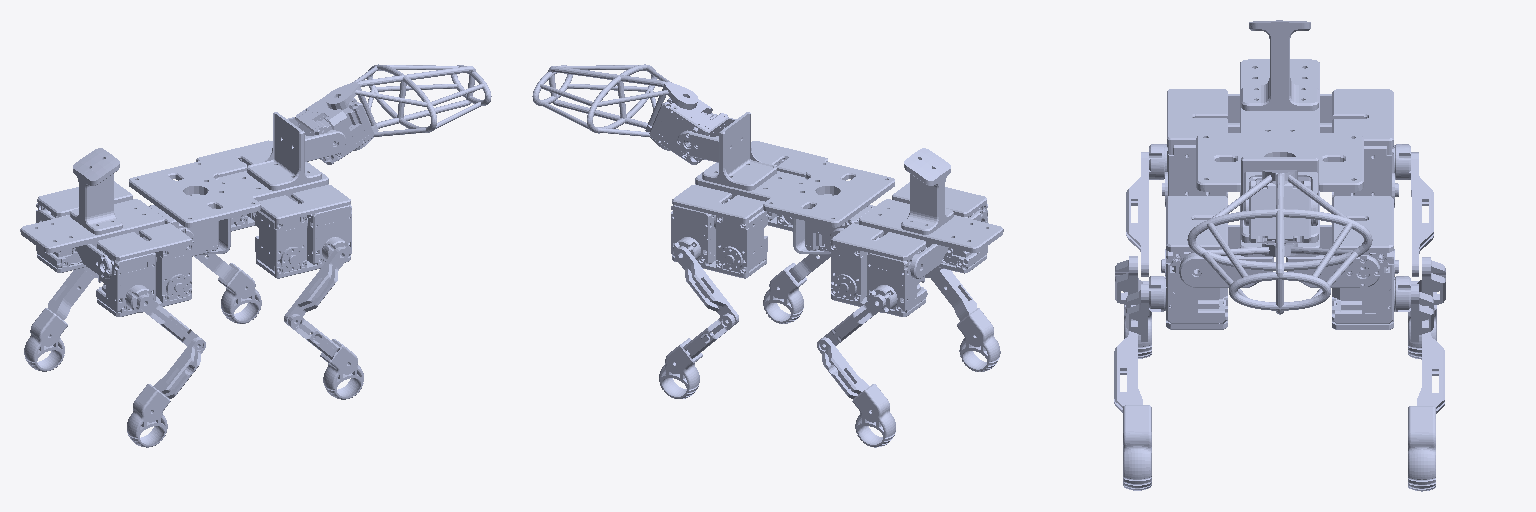
robot.urdf — honeybadger:
<?xml version="1.0" encoding="utf-8"?>
<!-- This URDF was automatically created by SolidWorks to URDF Exporter! Originally created by Stephen Brawner (brawner@gmail.com) 
     Commit Version: 1.6.0-4-g7f85cfe  Build Version: 1.6.7995.38578
     For more information, please see http://wiki.ros.org/sw_urdf_exporter -->
<robot
  name="honeybadger">
  <link
    name="base_link">
    <inertial>
      <origin
        xyz="0.00000000 -0.00093763 0.00093728"
        rpy="0 0 0" />
      <mass
        value="0.09820000" />
      <inertia
        ixx="0.00001958"
        ixy="-0.00000039"
        ixz="-0.00000039"
        iyy="0.00002723"
        iyz="-0.00000068"
        izz="0.00002723" />
    </inertial>
    <visual>
      <origin
        xyz="0 0 0"
        rpy="0 0 0" />
      <geometry>
        <mesh
          filename="../meshes/base_link.STL" />
      </geometry>
      <material
        name="">
        <color
          rgba="0.792156862745098 0.819607843137255 0.933333333333333 1" />
      </material>
    </visual>
    <collision>
      <origin
        xyz="0 0 0"
        rpy="0 0 0" />
      <geometry>
        <mesh
          filename="../meshes/base_link_collision.stl" />
      </geometry>
    </collision>
  </link>
  <link
    name="front_body_link">
    <inertial>
      <origin
        xyz="0.04948445 -0.00012611 0.02335336"
        rpy="0 0 0" />
      <mass
        value="0.10750000" />
      <inertia
        ixx="0.00007495"
        ixy="0.00000282"
        ixz="-0.00001225"
        iyy="0.00022568"
        iyz="0.00000034"
        izz="0.00025301" />
    </inertial>
    <visual>
      <origin
        xyz="0 0 0"
        rpy="0 0 0" />
      <geometry>
        <mesh
          filename="../meshes/front_body_link.STL" />
      </geometry>
      <material
        name="">
        <color
          rgba="0.792156862745098 0.819607843137255 0.933333333333333 1" />
      </material>
    </visual>
    <collision>
      <origin
        xyz="0 0 0"
        rpy="0 0 0" />
      <geometry>
        <mesh
          filename="../meshes/front_body_link_collision.stl" />
      </geometry>
    </collision>
  </link>
  <joint
    name="front_body_joint"
    type="revolute">
    <origin
      xyz="0.0119999999999992 0 0"
      rpy="0 0 0" />
    <parent
      link="base_link" />
    <child
      link="front_body_link" />
    <axis xyz="0 0 1" />
    <limit lower="-3.14" upper="3.14" effort="0" velocity="0"/>
  </joint>
  <link
    name="neck_link">
    <inertial>
      <origin
        xyz="0.00000000 0.01741363 0.00000000"
        rpy="0 0 0" />
      <mass
        value="0.09820000" />
      <inertia
        ixx="0.00000275"
        ixy="-0.0000001"
        ixz="-0.0000001"
        iyy="0.00000522"
        iyz="-0.0000001"
        izz="0.00000274" />
    </inertial>
    <visual>
      <origin
        xyz="0 0 0"
        rpy="0 0 0" />
      <geometry>
        <mesh
          filename="../meshes/neck_link.STL" />
      </geometry>
      <material
        name="">
        <color
          rgba="0.792156862745098 0.819607843137255 0.933333333333333 1" />
      </material>
    </visual>
    <collision>
      <origin
        xyz="0 0 0"
        rpy="0 0 0" />
      <geometry>
        <mesh
          filename="../meshes/neck_link_collision.stl" />
      </geometry>
    </collision>
  </link>
  <joint
    name="neck_joint"
    type="revolute">
    <origin
      xyz="0.117550638789464 0 0.0529525414531326"
      rpy="0 0 0" />
    <parent
      link="front_body_link" />
    <child
      link="neck_link" />
    <axis
      xyz="0 1 0" />
    <limit lower="-3.14" upper="3.14" effort="0" velocity="0"/>
  </joint>
  <link
    name="head_link">
    <inertial>
      <origin
        xyz="0.05077434 -0.00001623 0.00427652"
        rpy="0 0 0" />
      <mass
        value="0.10750000" />
      <inertia
        ixx="0.00007189"
        ixy="0.00000002"
        ixz="0.00000429"
        iyy="0.00018804"
        iyz="-0.0000001"
        izz="0.00021022" />
    </inertial>
    <visual>
      <origin
        xyz="0 0 0"
        rpy="0 0 0" />
      <geometry>
        <mesh
          filename="../meshes/head_link.STL" />
      </geometry>
      <material
        name="">
        <color
          rgba="0.792156862745098 0.819607843137255 0.933333333333333 1" />
      </material>
    </visual>
    <collision>
      <origin
        xyz="0 0 0"
        rpy="0 0 0" />
      <geometry>
        <mesh
          filename="../meshes/head_link_collision.stl" />
      </geometry>
    </collision>
  </link>
  <joint
    name="head_joint"
    type="revolute">
    <origin
      xyz="0.0223077541263685 0 0.00885235030020105"
      rpy="0 0 0" />
    <parent
      link="neck_link" />
    <child
      link="head_link" />
    <axis
      xyz="0 0 -1" />
    <limit lower="-3.14" upper="3.14" effort="0" velocity="0"/>
  </joint>
  <link
    name="FL_hip_link">
    <inertial>
      <origin
        xyz="-0.03531926 0.00064260 -0.01226476"
        rpy="0 0 0" />
      <mass
        value="0.15540000" />
      <inertia
        ixx="0.00005554"
        ixy="-0.00000027"
        ixz="0.00000019"
        iyy="0.00010657"
        iyz="0.00000051"
        izz="0.00008192" />
    </inertial>
    <visual>
      <origin
        xyz="0 0 0"
        rpy="0 0 0" />
      <geometry>
        <mesh
          filename="../meshes/FL_hip_link.STL" />
      </geometry>
      <material
        name="">
        <color
          rgba="0.792156862745098 0.819607843137255 0.933333333333333 1" />
      </material>
    </visual>
    <collision>
      <origin
        xyz="0 0 0"
        rpy="0 0 0" />
      <geometry>
        <mesh
          filename="../meshes/FL_hip_link_collision.stl" />
      </geometry>
    </collision>
  </link>
  <joint
    name="FL_hip_joint"
    type="revolute">
    <origin
      xyz="0.108140874377978 0.0485384998475471 0.00887000000000187"
      rpy="0 0 0" />
    <parent
      link="front_body_link" />
    <child
      link="FL_hip_link" />
    <axis
      xyz="1 0 0" />
    <limit lower="-3.14" upper="3.14" effort="0" velocity="0"/>
  </joint>
  <link
    name="FL_thigh_link">
    <inertial>
      <origin
        xyz="-0.01565646 0.01054961 -0.01564199"
        rpy="0 0 0" />
      <mass
        value="0.10750000" />
      <inertia
        ixx="0.00002829"
        ixy="0.00000468"
        ixz="-0.00002347"
        iyy="0.00005069"
        iyz="0.00000468"
        izz="0.00002829" />
    </inertial>
    <visual>
      <origin
        xyz="0 0 0"
        rpy="0 0 0" />
      <geometry>
        <mesh
          filename="../meshes/FL_thigh_link.STL" />
      </geometry>
      <material
        name="">
        <color
          rgba="0.792156862745098 0.819607843137255 0.933333333333333 1" />
      </material>
    </visual>
    <collision>
      <origin
        xyz="0 0 0"
        rpy="0 0 0" />
      <geometry>
        <mesh
          filename="../meshes/FL_thigh_link_collision.stl" />
      </geometry>
    </collision>
  </link>
  <joint
    name="FL_thigh_joint"
    type="revolute">
    <origin
      xyz="-0.0182404908327697 0.0187704907261972 -0.0240129166102102"
      rpy="0 0 0" />
    <parent
      link="FL_hip_link" />
    <child
      link="FL_thigh_link" />
    <axis
      xyz="0 1 0" />
    <limit lower="-3.14" upper="3.14" effort="0" velocity="0"/>
  </joint>
  <link
    name="FL_calf_link">
    <inertial>
      <origin
        xyz="0.03537921 0.00339474 -0.03947859"
        rpy="0 0 0" />
      <mass
        value="0.10750000" />
      <inertia
        ixx="0.00004069"
        ixy="0.00000272"
        ixz="0.00002480"
        iyy="0.00006275"
        iyz="-0.00000344"
        izz="0.00002734" />
    </inertial>
    <visual>
      <origin
        xyz="0 0 0"
        rpy="0 0 0" />
      <geometry>
        <mesh
          filename="../meshes/FL_calf_link.STL" />
      </geometry>
      <material
        name="">
        <color
          rgba="0.792156862745098 0.819607843137255 0.933333333333333 1" />
      </material>
    </visual>
    <collision>
      <origin
        xyz="0 0 0"
        rpy="0 0 0" />
      <geometry>
        <mesh
          filename="../meshes/FL_calf_link_collision.stl" />
      </geometry>
    </collision>
  </link>
  <joint
    name="FL_calf_joint"
    type="revolute">
    <origin
      xyz="-0.045965408032258 0.0137719011123502 -0.0459485019414488"
      rpy="0 0 0" />
    <parent
      link="FL_thigh_link" />
    <child
      link="FL_calf_link" />
    <axis
      xyz="0 1 0" />
    <limit lower="-3.14" upper="3.14" effort="0" velocity="0"/>
  </joint>
  <link
    name="FR_hip_link">
    <inertial>
      <origin
        xyz="-0.03609823 -0.00064107 -0.01225184"
        rpy="0 0 0" />
      <mass
        value="0.15540000" />
      <inertia
        ixx="0.00005554"
        ixy="0.00000027"
        ixz="0.00000019"
        iyy="0.00010657"
        iyz="-0.00000051"
        izz="0.00008192" />
    </inertial>
    <visual>
      <origin
        xyz="0 0 0"
        rpy="0 0 0" />
      <geometry>
        <mesh
          filename="../meshes/FR_hip_link.STL" />
      </geometry>
      <material
        name="">
        <color
          rgba="0.792156862745098 0.819607843137255 0.933333333333333 1" />
      </material>
    </visual>
    <collision>
      <origin
        xyz="0 0 0"
        rpy="0 0 0" />
      <geometry>
        <mesh
          filename="../meshes/FR_hip_link_collision.stl" />
      </geometry>
    </collision>
  </link>
  <joint
    name="FR_hip_joint"
    type="revolute">
    <origin
      xyz="0.108140874377978 -0.0485795001524533 0.00889824075018543"
      rpy="0 0 0" />
    <parent
      link="front_body_link" />
    <child
      link="FR_hip_link" />
    <axis
      xyz="1 0 0" />
    <limit lower="-3.14" upper="3.14" effort="0" velocity="0"/>
  </joint>
  <link
    name="FR_thigh_link">
    <inertial>
      <origin
        xyz="-0.01565470 -0.01100453 -0.01565433"
        rpy="0 0 0" />
      <mass
        value="0.10750000" />
      <inertia
        ixx="0.00002829"
        ixy="-0.00000468"
        ixz="-0.00002347"
        iyy="0.00005070"
        iyz="-0.00000469"
        izz="0.00002829" />
    </inertial>
    <visual>
      <origin
        xyz="0 0 0"
        rpy="0 0 0" />
      <geometry>
        <mesh
          filename="../meshes/FR_thigh_link.STL" />
      </geometry>
      <material
        name="">
        <color
          rgba="0.792156862745098 0.819607843137255 0.933333333333333 1" />
      </material>
    </visual>
    <collision>
      <origin
        xyz="0 0 0"
        rpy="0 0 0" />
      <geometry>
        <mesh
          filename="../meshes/FR_thigh_link_collision.stl" />
      </geometry>
    </collision>
  </link>
  <joint
    name="FR_thigh_joint"
    type="revolute">
    <origin
      xyz="-0.0190195119280461 -0.0185418828070309 -0.0239999992222784"
      rpy="0 0 0" />
    <parent
      link="FR_hip_link" />
    <child
      link="FR_thigh_link" />
    <axis
      xyz="0 1 0" />
    <limit lower="-3.14" upper="3.14" effort="0" velocity="0"/>
  </joint>
  <link
    name="FR_calf_link">
    <inertial>
      <origin
        xyz="0.03537930 -0.00362170 -0.03947869"
        rpy="0 0 0" />
      <mass
        value="0.10750000" />
      <inertia
        ixx="0.00004069"
        ixy="-0.00000272"
        ixz="0.00002480"
        iyy="0.00006275"
        iyz="0.00000345"
        izz="0.00002734" />
    </inertial>
    <visual>
      <origin
        xyz="0 0 0"
        rpy="0 0 0" />
      <geometry>
        <mesh
          filename="../meshes/FR_calf_link.STL" />
      </geometry>
      <material
        name="">
        <color
          rgba="0.792156862745098 0.819607843137255 0.933333333333333 1" />
      </material>
    </visual>
    <collision>
      <origin
        xyz="0 0 0"
        rpy="0 0 0" />
      <geometry>
        <mesh
          filename="../meshes/FR_calf_link_collision.stl" />
      </geometry>
    </collision>
  </link>
  <joint
    name="FR_calf_joint"
    type="revolute">
    <origin
      xyz="-0.045963783477352 -0.0140000099543861 -0.0459614245826425"
      rpy="0 0 0" />
    <parent
      link="FR_thigh_link" />
    <child
      link="FR_calf_link" />
    <axis
      xyz="0 1 0" />
    <limit lower="-3.14" upper="3.14" effort="0" velocity="0"/>
  </joint>
  <link
    name="rear_body_link">
    <inertial>
      <origin
        xyz="-0.06280371 0.00027519 0.02518362"
        rpy="0 0 0" />
      <mass
        value="0.10750000" />
      <inertia
        ixx="0.00008242"
        ixy="0.00000107"
        ixz="0.00001276"
        iyy="0.00012126"
        iyz="0.00000081"
        izz="0.00011990" />
    </inertial>
    <visual>
      <origin
        xyz="0 0 0"
        rpy="0 0 0" />
      <geometry>
        <mesh
          filename="../meshes/rear_body_link.STL" />
      </geometry>
      <material
        name="">
        <color
          rgba="0.792156862745098 0.819607843137255 0.933333333333333 1" />
      </material>
    </visual>
    <collision>
      <origin
        xyz="0 0 0"
        rpy="0 0 0" />
      <geometry>
        <mesh
          filename="../meshes/rear_body_link_collision.stl" />
      </geometry>
    </collision>
  </link>
  <joint
    name="rear_body_joint"
    type="revolute">
    <origin
      xyz="-0.0120000000000005 0 0"
      rpy="0 0 0" />
    <parent
      link="base_link" />
    <child
      link="rear_body_link" />
    <axis
      xyz="0 1 0" />
    <limit lower="-3.14" upper="3.14" effort="0" velocity="0"/>
  </joint>
  <link
    name="RL_hip_link">
    <inertial>
      <origin
        xyz="0.03609872 0.00064208 -0.01225185"
        rpy="0 0 0" />
      <mass
        value="0.15540000" />
      <inertia
        ixx="0.00005554"
        ixy="-0.00000027"
        ixz="-0.00000019"
        iyy="0.00010657"
        iyz="0.00000051"
        izz="0.00008192" />
    </inertial>
    <visual>
      <origin
        xyz="0 0 0"
        rpy="0 0 0" />
      <geometry>
        <mesh
          filename="../meshes/RL_hip_link.STL" />
      </geometry>
      <material
        name="">
        <color
          rgba="0.792156862745098 0.819607843137255 0.933333333333333 1" />
      </material>
    </visual>
    <collision>
      <origin
        xyz="0 0 0"
        rpy="0 0 0" />
      <geometry>
        <mesh
          filename="../meshes/RL_hip_link_collision.stl" />
      </geometry>
    </collision>
  </link>
  <joint
    name="RL_hip_joint"
    type="revolute">
    <origin
      xyz="-0.0872396172097073 0.0485389903815095 0.00885708338982556"
      rpy="0 0 0" />
    <parent
      link="rear_body_link" />
    <child
      link="RL_hip_link" />
    <axis
      xyz="1 0 0" />
    <limit lower="-3.14" upper="3.14" effort="0" velocity="0"/>
  </joint>
  <link
    name="RL_thigh_link">
    <inertial>
      <origin
        xyz="0.01565470 0.01077743 -0.01565433"
        rpy="0 0 0" />
      <mass
        value="0.10750000" />
      <inertia
        ixx="0.00002829"
        ixy="-0.00000468"
        ixz="0.00002347"
        iyy="0.00005070"
        iyz="0.00000468"
        izz="0.00002829" />
    </inertial>
    <visual>
      <origin
        xyz="0 0 0"
        rpy="0 0 0" />
      <geometry>
        <mesh
          filename="../meshes/RL_thigh_link.STL" />
      </geometry>
      <material
        name="">
        <color
          rgba="0.792156862745098 0.819607843137255 0.933333333333333 1" />
      </material>
    </visual>
    <collision>
      <origin
        xyz="0 0 0"
        rpy="0 0 0" />
      <geometry>
        <mesh
          filename="../meshes/RL_thigh_link_collision.stl" />
      </geometry>
    </collision>
  </link>
  <joint
    name="RL_thigh_joint"
    type="revolute">
    <origin
      xyz="0.019020000754915 0.0187700001922348 -0.0240000000000344"
      rpy="0 0 0" />
    <parent
      link="RL_hip_link" />
    <child
      link="RL_thigh_link" />
    <axis
      xyz="0 1 0" />
    <limit lower="-3.14" upper="3.14" effort="0" velocity="0"/>
  </joint>
  <link
    name="RL_calf_link">
    <inertial>
      <origin
        xyz="-0.03537925 0.00362270 -0.03947870"
        rpy="0 0 0" />
      <mass
        value="0.10750000" />
      <inertia
        ixx="0.00004069"
        ixy="-0.00000272"
        ixz="-0.00002480"
        iyy="0.00006275"
        iyz="-0.00000345"
        izz="0.00002734" />
    </inertial>
    <visual>
      <origin
        xyz="0 0 0"
        rpy="0 0 0" />
      <geometry>
        <mesh
          filename="../meshes/RL_calf_link.STL" />
      </geometry>
      <material
        name="">
        <color
          rgba="0.792156862745098 0.819607843137255 0.933333333333333 1" />
      </material>
    </visual>
    <collision>
      <origin
        xyz="0 0 0"
        rpy="0 0 0" />
      <geometry>
        <mesh
          filename="../meshes/RL_calf_link_collision.stl" />
      </geometry>
    </collision>
  </link>
  <joint
    name="RL_calf_joint"
    type="revolute">
    <origin
      xyz="0.0459637368277912 0.0137719011123502 -0.0459614203530425"
      rpy="0 0 0" />
    <parent
      link="RL_thigh_link" />
    <child
      link="RL_calf_link" />
    <axis
      xyz="0 1 0" />
    <limit lower="-3.14" upper="3.14" effort="0" velocity="0"/>
  </joint>
  <link
    name="RR_hip_link">
    <inertial>
      <origin
        xyz="0.03532137 -0.00041448 -0.01225185"
        rpy="0 0 0" />
      <mass
        value="0.15540000" />
      <inertia
        ixx="0.00005554"
        ixy="-0.00000027"
        ixz="-0.00000019"
        iyy="0.00010657"
        iyz="-0.00000051"
        izz="0.00008192" />
    </inertial>
    <visual>
      <origin
        xyz="0 0 0"
        rpy="0 0 0" />
      <geometry>
        <mesh
          filename="../meshes/RR_hip_link.STL" />
      </geometry>
      <material
        name="">
        <color
          rgba="0.792156862745098 0.819607843137255 0.933333333333333 1" />
      </material>
    </visual>
    <collision>
      <origin
        xyz="0 0 0"
        rpy="0 0 0" />
      <geometry>
        <mesh
          filename="../meshes/RR_hip_link_collision.stl" />
      </geometry>
    </collision>
  </link>
  <joint
    name="RR_hip_joint"
    type="revolute">
    <origin
      xyz="-0.0872396172097073 -0.0485790112615451 0.00888532336230367"
      rpy="0 0 0" />
    <parent
      link="rear_body_link" />
    <child
      link="RR_hip_link" />
    <axis
      xyz="1 0 0" />
    <limit lower="-3.14" upper="3.14" effort="0" velocity="0"/>
  </joint>
  <link
    name="RR_thigh_link">
    <inertial>
      <origin
        xyz="0.01565485 -0.01077772 -0.01565493"
        rpy="0 0 0" />
      <mass
        value="0.10750000" />
      <inertia
        ixx="0.00002829"
        ixy="0.00000468"
        ixz="0.00002347"
        iyy="0.00005069"
        iyz="-0.00000468"
        izz="0.00002829" />
    </inertial>
    <visual>
      <origin
        xyz="0 0 0"
        rpy="0 0 0" />
      <geometry>
        <mesh
          filename="../meshes/RR_thigh_link.STL" />
      </geometry>
      <material
        name="">
        <color
          rgba="0.792156862745098 0.819607843137255 0.933333333333333 1" />
      </material>
    </visual>
    <collision>
      <origin
        xyz="0 0 0"
        rpy="0 0 0" />
      <geometry>
        <mesh
          filename="../meshes/RR_thigh_link_collision.stl" />
      </geometry>
    </collision>
  </link>
  <joint
    name="RR_thigh_joint"
    type="revolute">
    <origin
      xyz="0.0182426029587098 -0.0185423716979372 -0.0239999975070999"
      rpy="0 0 0" />
    <parent
      link="RR_hip_link" />
    <child
      link="RR_thigh_link" />
    <axis
      xyz="0 1 0" />
    <limit lower="-3.14" upper="3.14" effort="0" velocity="0"/>
  </joint>
  <link
    name="RR_calf_link">
    <inertial>
      <origin
        xyz="-0.03537921 -0.00339474 -0.03947859"
        rpy="0 0 0" />
      <mass
        value="0.10750000" />
      <inertia
        ixx="0.00004069"
        ixy="0.00000272"
        ixz="-0.00002480"
        iyy="0.00006275"
        iyz="0.00000344"
        izz="0.00002734" />
    </inertial>
    <visual>
      <origin
        xyz="0 0 0"
        rpy="0 0 0" />
      <geometry>
        <mesh
          filename="../meshes/RR_calf_link.STL" />
      </geometry>
      <material
        name="">
        <color
          rgba="0.792156862745098 0.819607843137255 0.933333333333333 1" />
      </material>
    </visual>
    <collision>
      <origin
        xyz="0 0 0"
        rpy="0 0 0" />
      <geometry>
        <mesh
          filename="../meshes/RR_calf_link_collision.stl" />
      </geometry>
    </collision>
  </link>
  <joint
    name="RR_calf_joint"
    type="revolute">
    <origin
      xyz="0.0459637834773524 -0.0140000099543879 -0.0459614245826424"
      rpy="0 0 0" />
    <parent
      link="RR_thigh_link" />
    <child
      link="RR_calf_link" />
    <axis
      xyz="0 1 0" />
    <limit lower="-3.14" upper="3.14" effort="0" velocity="0"/>
  </joint>
</robot>

--- Render facts (derived) ---
3 views of the same robot in one strip: view 1: azimuth 30°, elevation 25°; view 2: azimuth 150°, elevation 25°; view 3: azimuth 270°, elevation 25° (orthographic).
Model honeybadger with 17 links and 16 joints (16 revolute), rooted at base_link, posed all joints at 0.
Links seen in each view (by area): view 1: front_body_link, rear_body_link, FR_hip_link, RR_hip_link, head_link, RR_calf_link, RL_calf_link, neck_link, FR_calf_link, FL_calf_link, RL_hip_link, FR_thigh_link (+3 smaller); view 2: front_body_link, rear_body_link, FL_hip_link, RL_hip_link, head_link, RL_calf_link, RR_calf_link, neck_link, FL_calf_link, FR_calf_link, RR_hip_link, FL_thigh_link (+3 smaller); view 3: front_body_link, head_link, rear_body_link, FL_hip_link, FR_hip_link, RL_hip_link, RR_hip_link, FR_calf_link, FL_calf_link, neck_link, RR_thigh_link, RL_thigh_link (+4 smaller).
Link boxes in pixels (x1=…): front_body_link: x1=129, y1=112, x2=351, y2=254; rear_body_link: x1=20, y1=148, x2=193, y2=278; FR_hip_link: x1=255, y1=185, x2=351, y2=278; RR_hip_link: x1=96, y1=223, x2=191, y2=316; head_link: x1=325, y1=64, x2=491, y2=150; RR_calf_link: x1=127, y1=337, x2=205, y2=447; RL_calf_link: x1=24, y1=268, x2=93, y2=371; neck_link: x1=295, y1=95, x2=374, y2=164; FR_calf_link: x1=288, y1=314, x2=363, y2=399; FL_calf_link: x1=194, y1=254, x2=261, y2=323; RL_hip_link: x1=36, y1=181, x2=132, y2=272; FR_thigh_link: x1=284, y1=237, x2=349, y2=325; front_body_link: x1=677, y1=112, x2=894, y2=254; rear_body_link: x1=830, y1=148, x2=1003, y2=278; FL_hip_link: x1=671, y1=185, x2=767, y2=278; RL_hip_link: x1=831, y1=223, x2=927, y2=316; head_link: x1=532, y1=64, x2=698, y2=150; RL_calf_link: x1=817, y1=337, x2=895, y2=447; RR_calf_link: x1=931, y1=269, x2=1000, y2=371; neck_link: x1=649, y1=98, x2=728, y2=164; FL_calf_link: x1=659, y1=313, x2=735, y2=398; FR_calf_link: x1=763, y1=254, x2=830, y2=323; RR_hip_link: x1=892, y1=182, x2=987, y2=273; FL_thigh_link: x1=673, y1=237, x2=738, y2=324; front_body_link: x1=1179, y1=133, x2=1380, y2=287; head_link: x1=1187, y1=170, x2=1372, y2=314; rear_body_link: x1=1228, y1=20, x2=1331, y2=132; FL_hip_link: x1=1332, y1=196, x2=1398, y2=329; FR_hip_link: x1=1161, y1=196, x2=1227, y2=329; RL_hip_link: x1=1332, y1=89, x2=1398, y2=207; RR_hip_link: x1=1162, y1=89, x2=1227, y2=206; FR_calf_link: x1=1114, y1=331, x2=1151, y2=490; FL_calf_link: x1=1408, y1=332, x2=1444, y2=491; neck_link: x1=1249, y1=177, x2=1312, y2=242; RR_thigh_link: x1=1126, y1=144, x2=1164, y2=276; RL_thigh_link: x1=1395, y1=144, x2=1433, y2=276.
Size in the robot's own frame: 0.4104 by 0.1932 by 0.2319 metres.
Meshes: 17 distinct files referenced, 17 mesh visuals loaded (17 binary STL).
